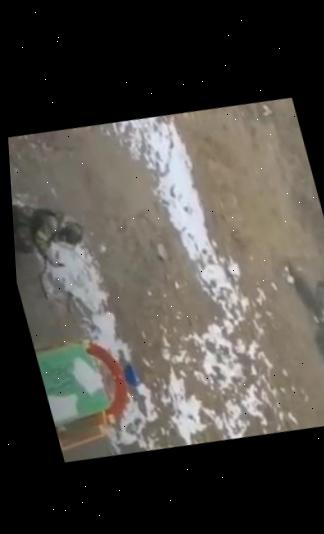person: (11, 189, 91, 281)
